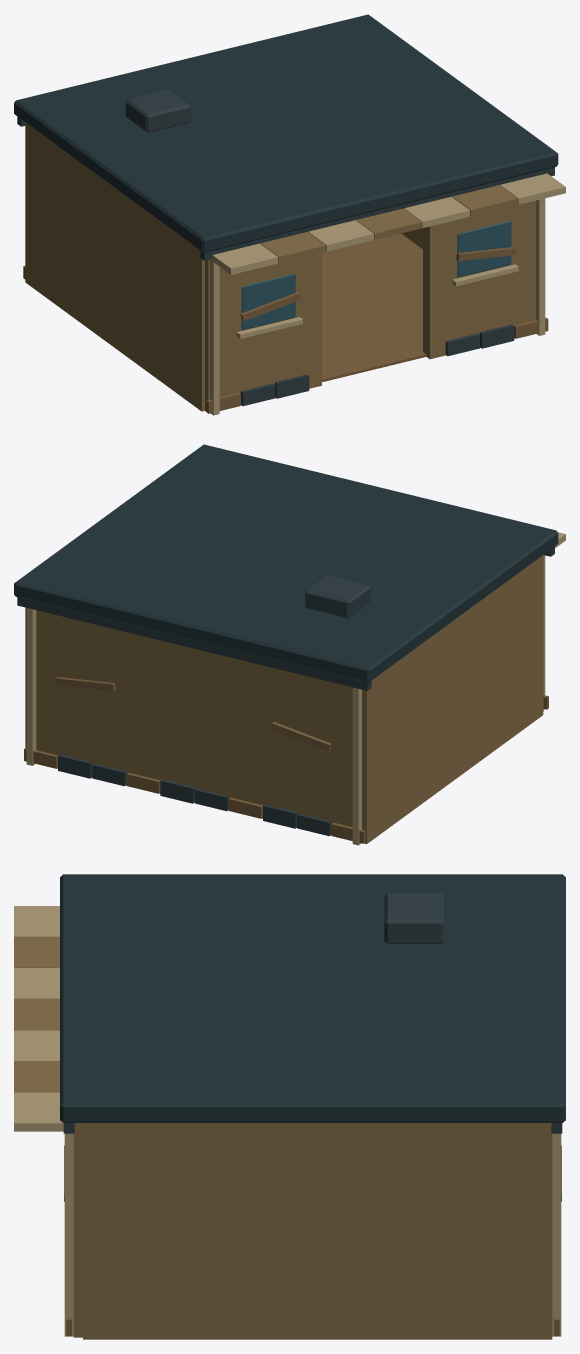
The model's file is building_shop.glb.
3 renders of one model, top to bottom at view 1: azimuth 30°, elevation 25°; view 2: azimuth 150°, elevation 25°; view 3: azimuth 270°, elevation 25°, orthographic. The views are drawn at different scales.
Visible parts, largest first — view 1: DD_Hide_Roof, DD_Keep_West, DD_Keep_Floor, DD_Hide_Front_1, DD_Hide_Front_-1, DD_Cut_Front_1, DD_Cut_Front_-1, DD_Hide_RoofVent, DD_Hide_Window_1, DD_Hide_Window_-1, DD_Hide_FrontFascia, DD_Hide_FrontCorner (+17 smaller); view 2: DD_Hide_Roof, DD_Keep_Back, DD_Keep_West, DD_Hide_BackFascia, DD_Hide_RoofVent, DD_Hide_BackCorner.001, DD_Hide_BackCorner, DD_Hide_BackPlinth.008, DD_Hide_BackPlinth.005, DD_Hide_BackPlinth.002, DD_Hide_BackWindowRepair, DD_Hide_BackPlinth.001 (+5 smaller); view 3: DD_Hide_Roof, DD_Hide_East, DD_Cut_East, DD_Keep_Back, DD_Hide_RoofVent, DD_Hide_BackCorner.001, DD_Hide_FrontCorner.001, DD_Hide_Awning_6, DD_Hide_Front_1, DD_Hide_Awning_2, DD_Hide_Awning_3, DD_Hide_Awning_4 (+4 smaller).
Boxes of the visible parts, x1=… form: DD_Hide_Roof: x1=14, y1=14, x2=558, y2=252; DD_Keep_West: x1=29, y1=125, x2=204, y2=411; DD_Keep_Floor: x1=322, y1=233, x2=426, y2=382; DD_Hide_Front_1: x1=423, y1=200, x2=535, y2=359; DD_Hide_Front_-1: x1=205, y1=253, x2=321, y2=405; DD_Cut_Front_1: x1=423, y1=284, x2=535, y2=358; DD_Cut_Front_-1: x1=205, y1=337, x2=321, y2=411; DD_Hide_RoofVent: x1=125, y1=89, x2=190, y2=132; DD_Hide_Window_1: x1=457, y1=221, x2=511, y2=277; DD_Hide_Window_-1: x1=241, y1=273, x2=295, y2=330; DD_Hide_FrontFascia: x1=200, y1=167, x2=554, y2=260; DD_Hide_FrontCorner: x1=210, y1=260, x2=219, y2=415; DD_Hide_Roof: x1=14, y1=444, x2=558, y2=682; DD_Keep_Back: x1=25, y1=607, x2=373, y2=843; DD_Keep_West: x1=370, y1=555, x2=543, y2=841; DD_Hide_BackFascia: x1=17, y1=597, x2=371, y2=690; DD_Hide_RoofVent: x1=305, y1=575, x2=370, y2=618; DD_Hide_BackCorner.001: x1=26, y1=608, x2=36, y2=765; DD_Hide_BackCorner: x1=352, y1=687, x2=361, y2=845; DD_Hide_BackPlinth.008: x1=58, y1=754, x2=92, y2=778; DD_Hide_BackPlinth.005: x1=160, y1=779, x2=194, y2=803; DD_Hide_BackPlinth.002: x1=263, y1=804, x2=297, y2=828; DD_Hide_BackWindowRepair: x1=271, y1=722, x2=331, y2=751; DD_Hide_BackPlinth.001: x1=297, y1=813, x2=331, y2=836; DD_Hide_Roof: x1=60, y1=874, x2=565, y2=1122; DD_Hide_East: x1=83, y1=1123, x2=542, y2=1339; DD_Cut_East: x1=83, y1=1274, x2=542, y2=1339; DD_Keep_Back: x1=533, y1=1123, x2=552, y2=1339; DD_Hide_RoofVent: x1=384, y1=893, x2=443, y2=943; DD_Hide_BackCorner.001: x1=552, y1=1133, x2=561, y2=1336; DD_Hide_FrontCorner.001: x1=64, y1=1133, x2=73, y2=1336; DD_Hide_Awning_6: x1=14, y1=1092, x2=63, y2=1131; DD_Hide_Front_1: x1=73, y1=1123, x2=82, y2=1337; DD_Hide_Awning_2: x1=14, y1=968, x2=59, y2=999; DD_Hide_Awning_3: x1=14, y1=999, x2=59, y2=1030; DD_Hide_Awning_4: x1=14, y1=1030, x2=59, y2=1061.
Size of the model in its own units: 5.95 by 3.17 by 6.
